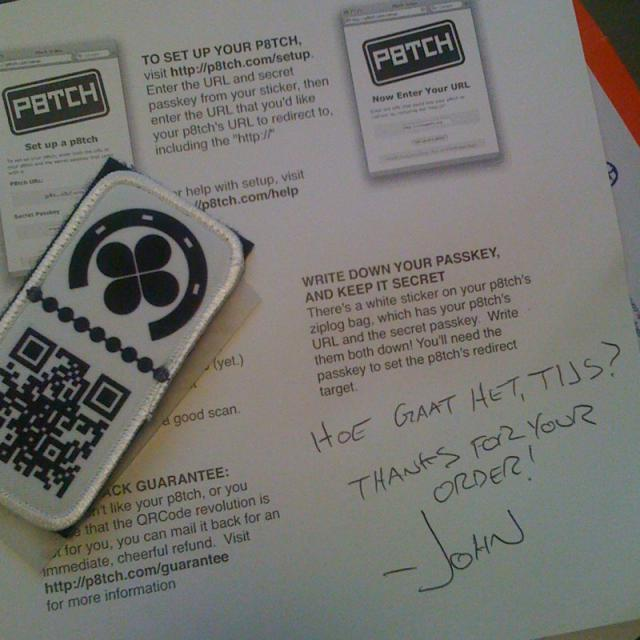qrcode: (1, 328, 133, 500)
